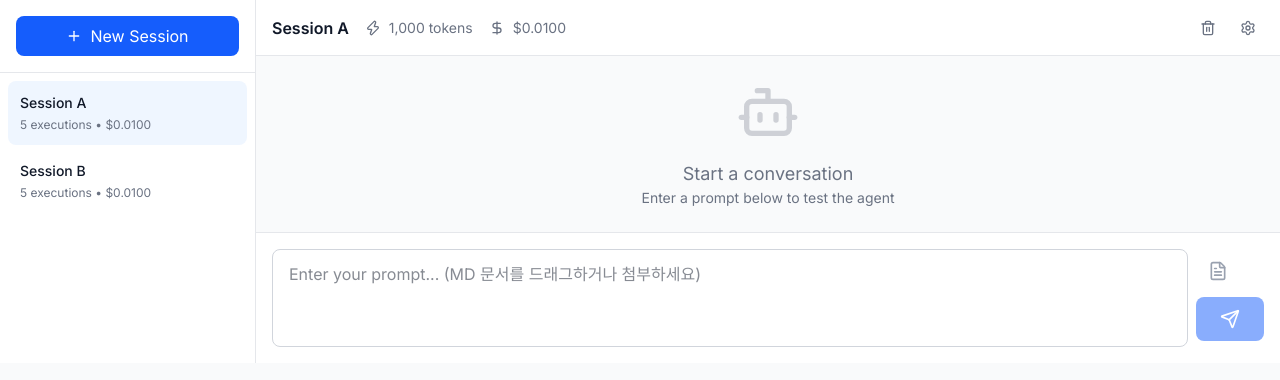
Test case: PlaygroundPage › switches sessions when clicking a different session in sidebar
The image size is (1280, 380).
Expected: the text "1,000 tokens" is shown, [365,18,473,38]
// Click Session B in the sidebar (find the sidebar item specifically)
Click the text "Session B" at (53, 171), box [20,161,86,181]
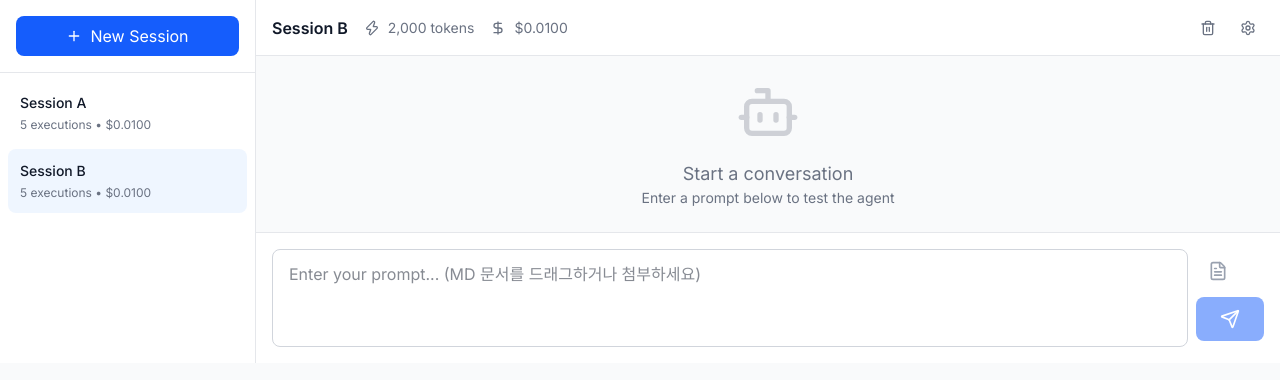
Expected: the text "2,000 tokens" is shown, [364,18,474,38]
